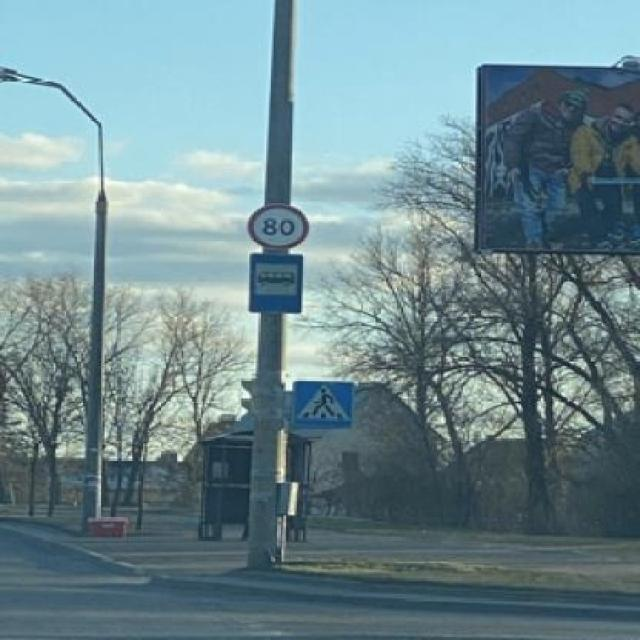forb_speed_over_80: (247, 201, 310, 253)
